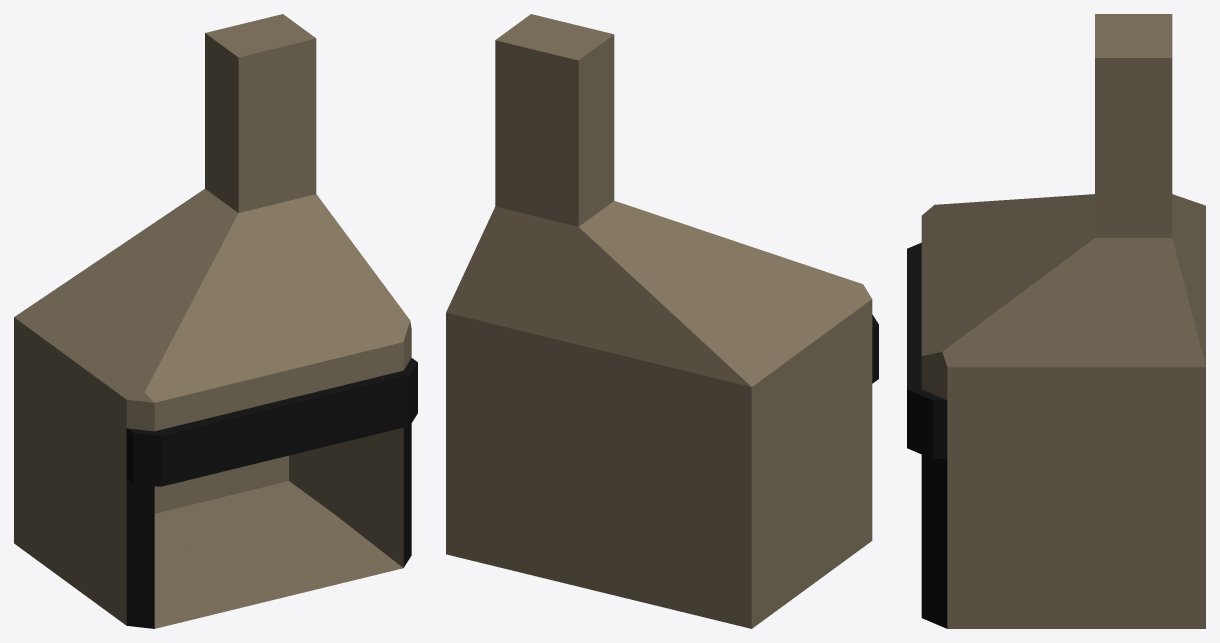
The model's file is Crematorium.fbx.
3 renders of one model, left to right at view 1: azimuth 30°, elevation 25°; view 2: azimuth 150°, elevation 25°; view 3: azimuth 270°, elevation 25°, orthographic. The views are drawn at different scales.
Parts seen in each view (by area): view 1: 立方体; view 2: 立方体; view 3: 立方体.
Part boxes in pixels (bbox=[...]): 立方体: bbox=[14, 14, 417, 628]; 立方体: bbox=[446, 14, 878, 628]; 立方体: bbox=[907, 14, 1205, 628].
Size of the model in its own units: 798 by 1274 by 624.
